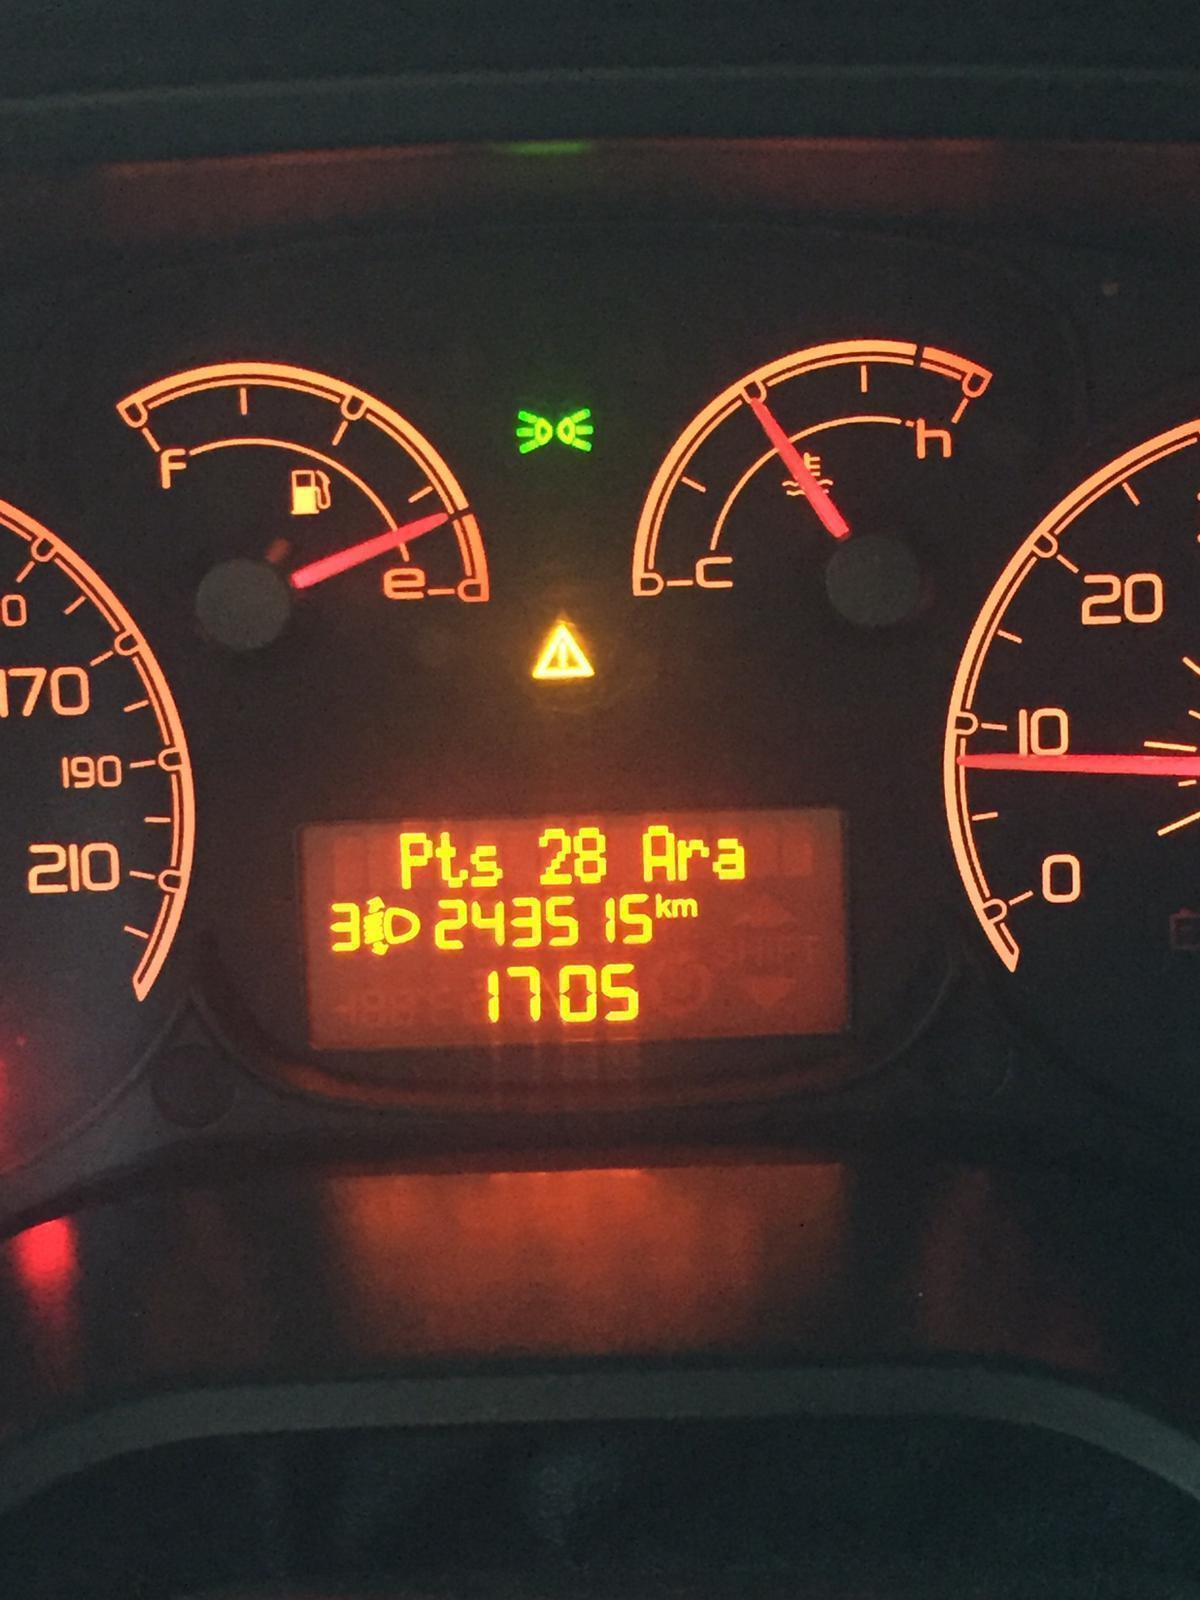0: (556, 961, 596, 1026)
1: (480, 961, 504, 1032), (603, 894, 619, 949)
2: (537, 824, 574, 884), (435, 898, 466, 952)
3: (326, 893, 361, 952), (508, 892, 541, 951)
4: (471, 896, 505, 947)
5: (600, 960, 643, 1023), (543, 894, 581, 946), (618, 892, 652, 949)
7: (505, 961, 547, 1023)
8: (574, 824, 611, 884)
X: (396, 829, 434, 888), (642, 824, 677, 882), (434, 830, 466, 887), (676, 837, 711, 882), (713, 837, 747, 883), (469, 844, 503, 887), (671, 896, 700, 920), (653, 891, 671, 921)
odometer: (300, 808, 851, 1041)
